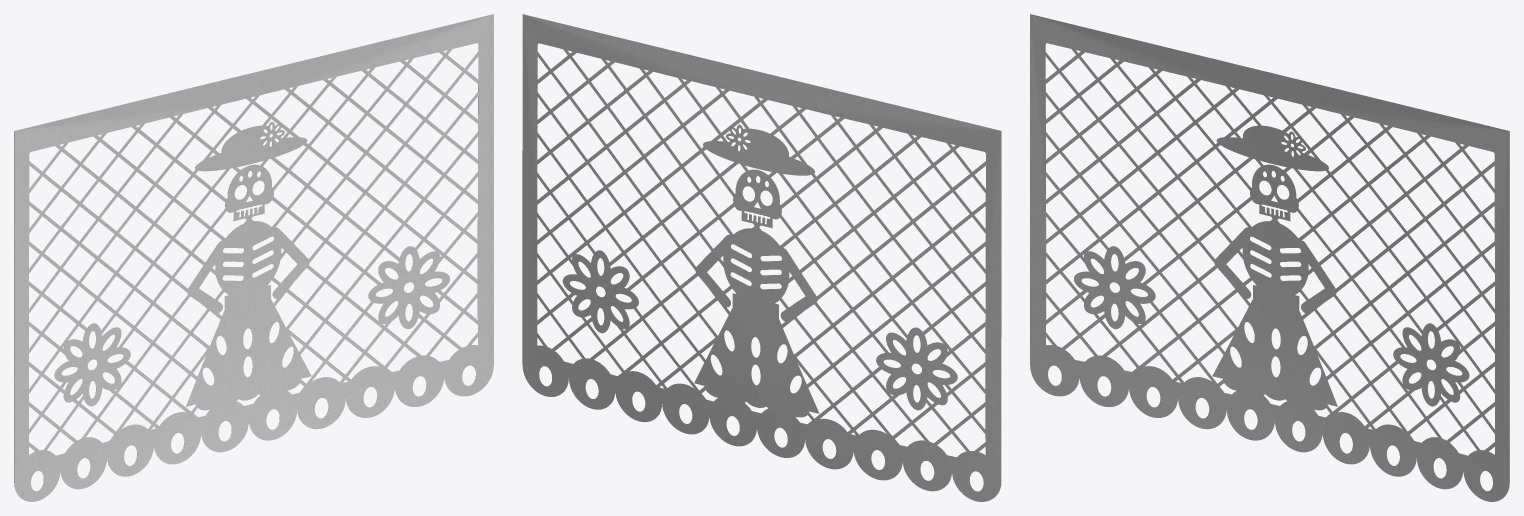
Rendered from papel_2.gltf.
3 renders of one model, left to right at view 1: azimuth 30°, elevation 25°; view 2: azimuth 150°, elevation 25°; view 3: azimuth 330°, elevation 25°, orthographic.
Visible parts, largest first — view 1: papel_2; view 2: papel_2; view 3: papel_2.
Part boxes in pixels (x1=…): papel_2: x1=14, y1=14, x2=493, y2=501; papel_2: x1=522, y1=14, x2=1001, y2=501; papel_2: x1=1030, y1=14, x2=1509, y2=501.
Bounding box in the file's own units: 0.4 × 0.3 × 0.00913.
Materials: 1 (1 with a texture image).
